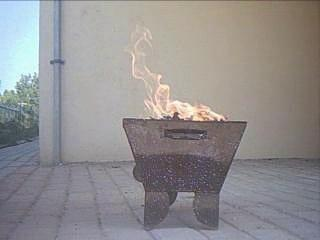fire: (127, 40, 227, 127)
